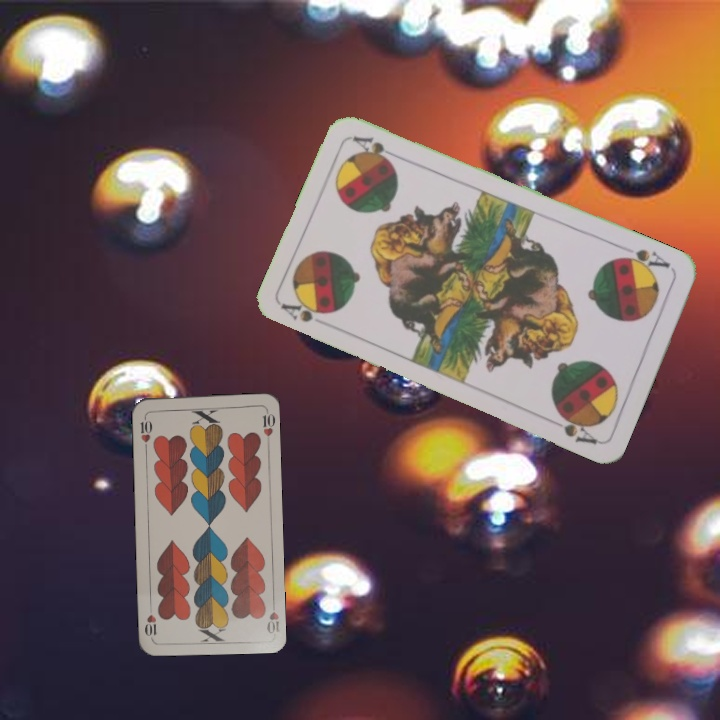H10: (136, 411, 155, 452), (263, 596, 281, 636)
SA: (614, 245, 673, 276), (278, 297, 330, 325)
